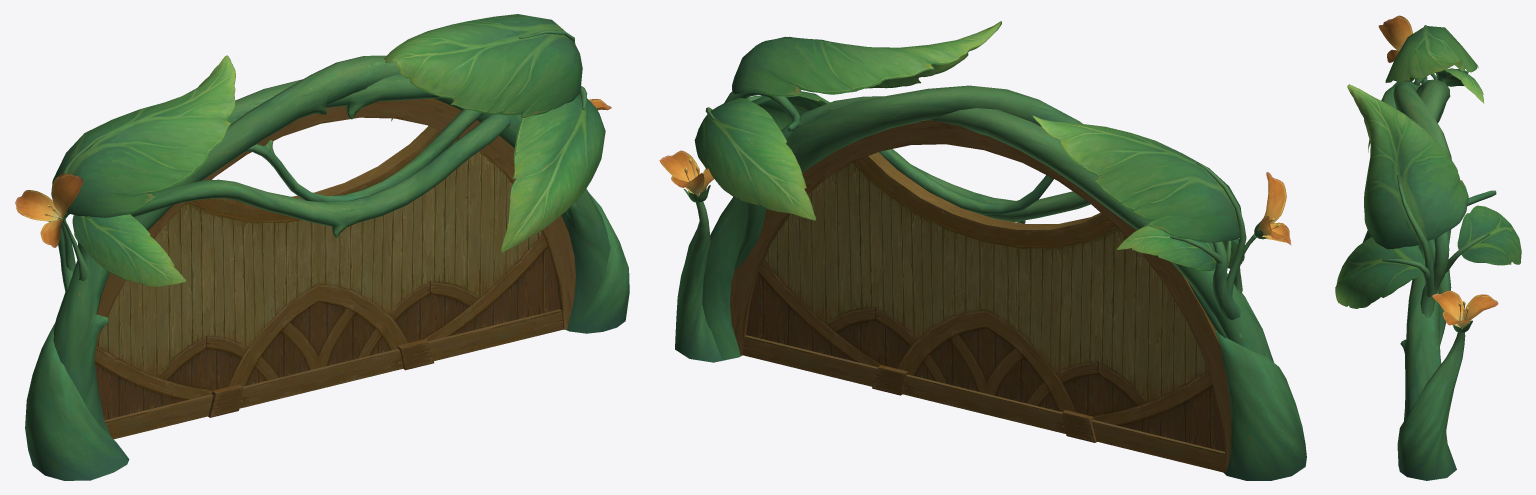
Rendered from Homeworld_Exterior_Xm_Build_RainforestWall_01_Lod0.fbx.
3 views of the same model, side by side, from view 1: azimuth 30°, elevation 25°; view 2: azimuth 150°, elevation 25°; view 3: azimuth 270°, elevation 25° (orthographic). The views are drawn at different scales.
Visible parts, largest first — view 1: Homeworld_Exterior_Xm_Build_RainforestWall_01_Lod0; view 2: Homeworld_Exterior_Xm_Build_RainforestWall_01_Lod0; view 3: Homeworld_Exterior_Xm_Build_RainforestWall_01_Lod0.
Boxes of the visible parts, bbox=[...] form: Homeworld_Exterior_Xm_Build_RainforestWall_01_Lod0: bbox=[15, 14, 629, 480]; Homeworld_Exterior_Xm_Build_RainforestWall_01_Lod0: bbox=[659, 21, 1306, 480]; Homeworld_Exterior_Xm_Build_RainforestWall_01_Lod0: bbox=[1335, 15, 1521, 480].
Size of the model in its own units: 9.92 by 5.51 by 3.21.
Materials: 1 (1 with a texture image).
